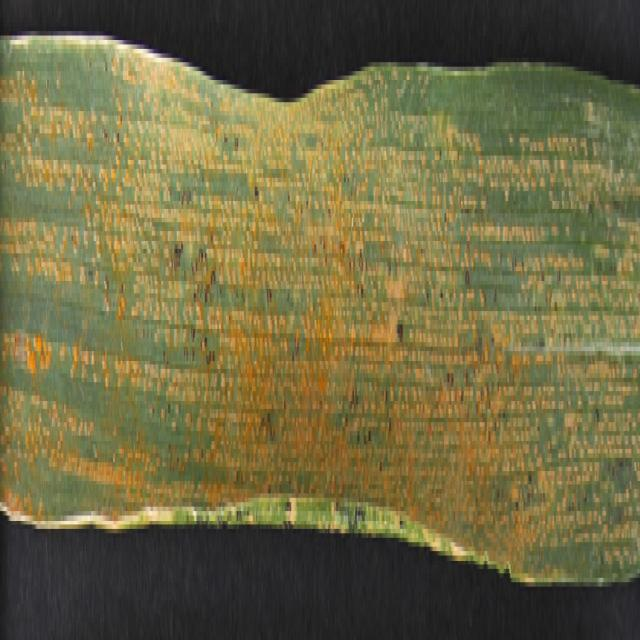leaf rust: (3, 49, 640, 578)
